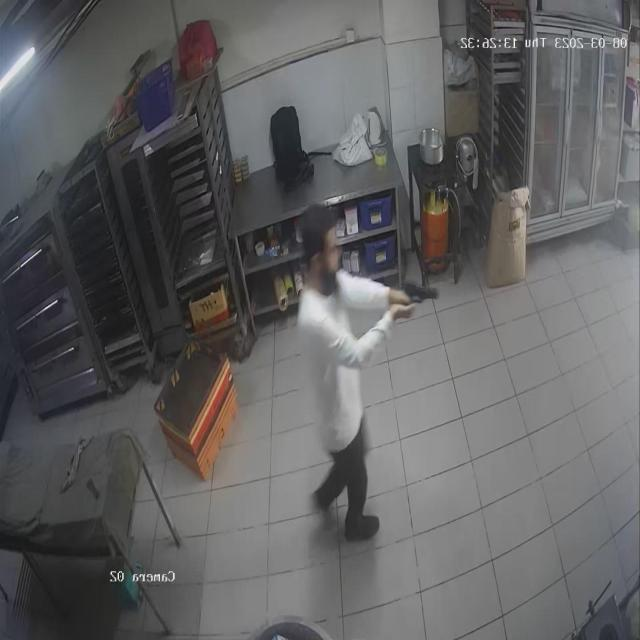Gun: (396, 267, 444, 318)
